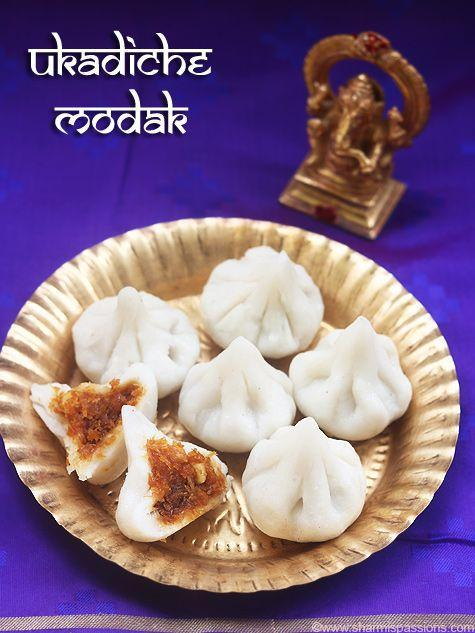modak: (93, 281, 372, 541)
